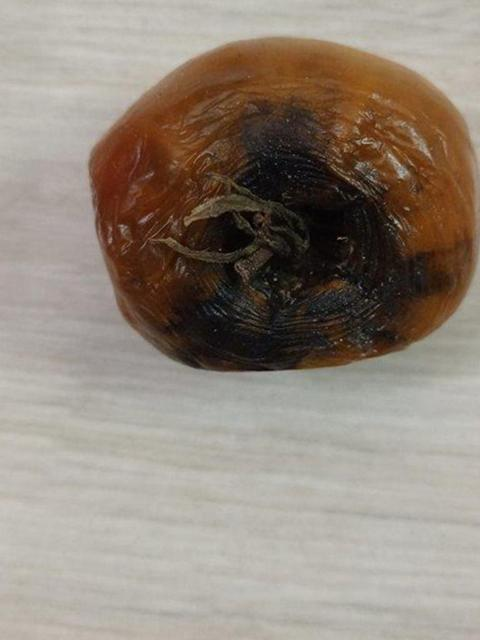defect: (89, 31, 480, 380)
